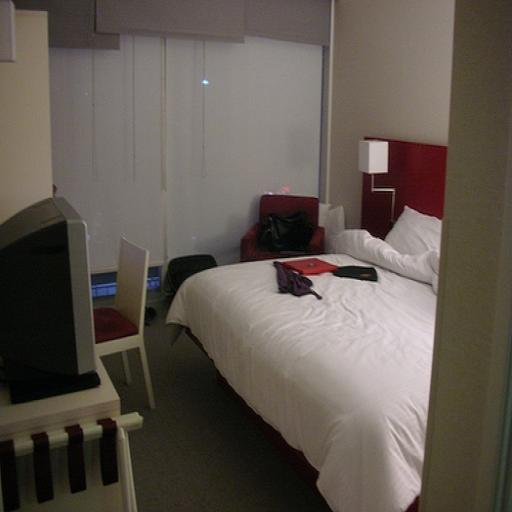bed: (168, 134, 486, 512)
